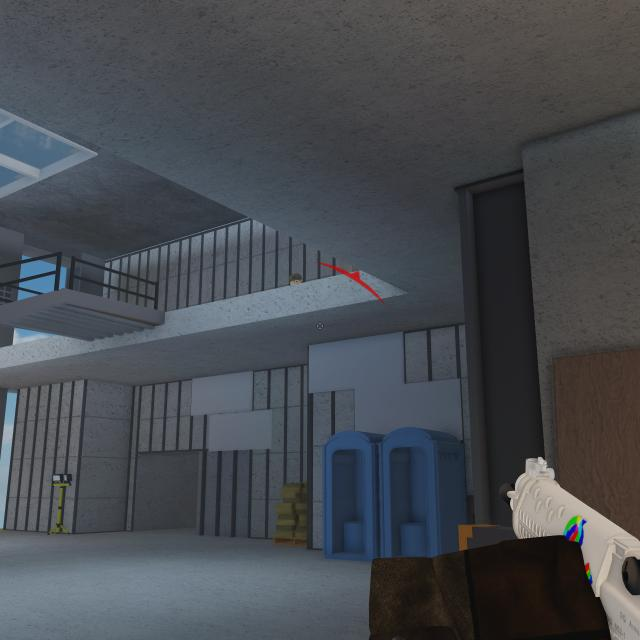Head: (288, 273, 302, 285)
